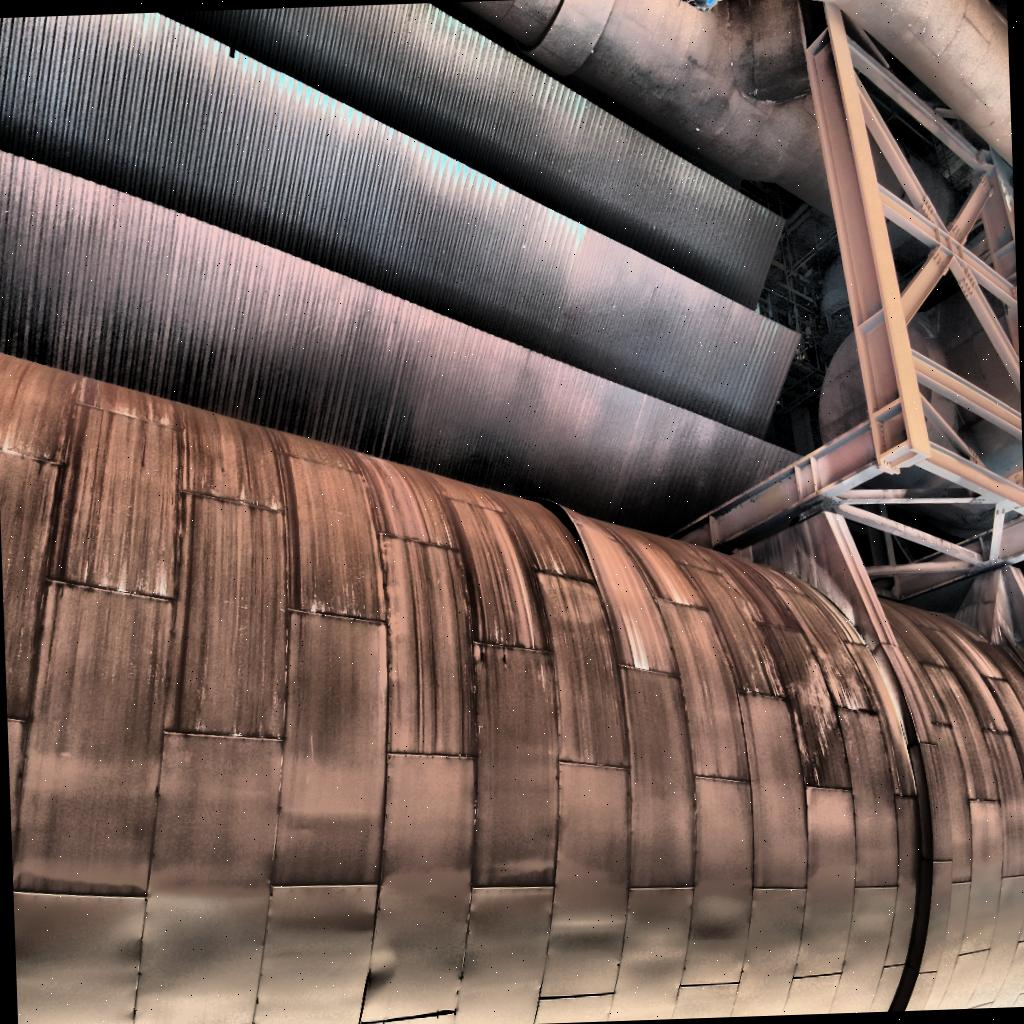Failures: (500, 442, 674, 700)
